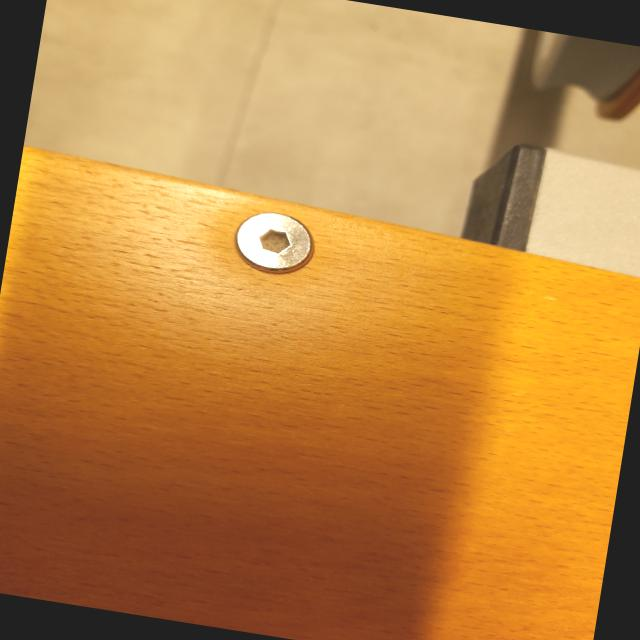Hex Socket Allen: (231, 207, 321, 280)
